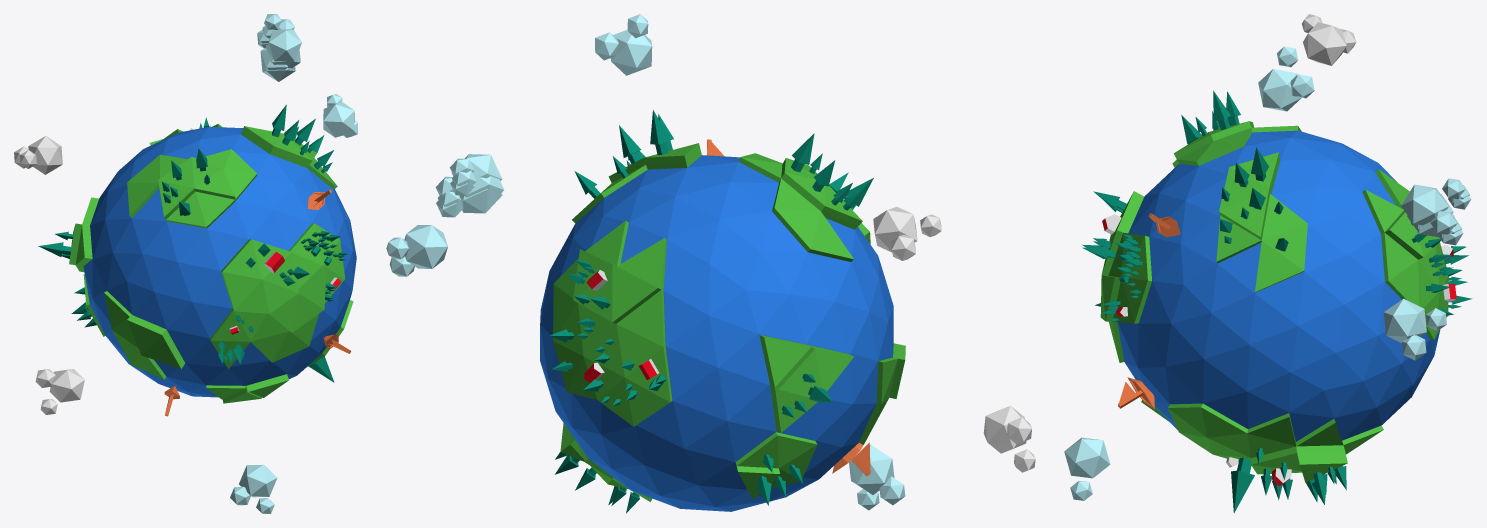
Rendered from globetest2.glb.
3 renders of one model, left to right at view 1: azimuth 30°, elevation 25°; view 2: azimuth 150°, elevation 25°; view 3: azimuth 270°, elevation 25°, orthographic. The views are drawn at different scales.
Visible parts, largest first — view 1: Icosphere.001, Icosphere, Plane.079, Icosphere.008, Icosphere.007, Icosphere.003, Icosphere.020, Icosphere.014, Icosphere.011, Plane.002, Plane; view 2: Icosphere.001, Icosphere, Plane.079, Icosphere.020, Icosphere.003, Icosphere.007, Icosphere.008, Icosphere.011, Icosphere.014, Plane.002, Plane; view 3: Icosphere.001, Icosphere, Plane.079, Icosphere.020, Icosphere.003, Icosphere.007, Icosphere.008, Icosphere.011, Plane.002, Plane.
Part boxes in pixels (box(x1,y1,x2,y2)): Icosphere.001: box(83, 126, 356, 397); Icosphere: box(69, 124, 353, 403); Plane.079: box(38, 104, 347, 382); Icosphere.008: box(230, 464, 277, 513); Icosphere.007: box(264, 14, 301, 61); Icosphere.003: box(323, 94, 357, 137); Icosphere.020: box(257, 25, 300, 81); Icosphere.014: box(49, 369, 84, 402); Icosphere.011: box(28, 136, 62, 174); Plane.002: box(164, 189, 350, 416); Plane: box(189, 128, 341, 370); Icosphere.001: box(540, 155, 893, 511); Icosphere: box(553, 143, 905, 501); Plane.079: box(549, 110, 873, 513); Icosphere.020: box(435, 154, 504, 217); Icosphere.003: box(386, 225, 447, 276); Icosphere.007: box(595, 14, 652, 75); Icosphere.008: box(849, 444, 905, 510); Icosphere.011: box(873, 207, 917, 252); Icosphere.014: box(983, 405, 1026, 453); Plane.002: box(707, 139, 870, 476); Plane: box(584, 270, 659, 382); Icosphere.001: box(1117, 130, 1440, 441); Icosphere: box(1100, 121, 1448, 482); Plane.079: box(1082, 90, 1472, 513); Icosphere.020: box(1401, 178, 1471, 245); Icosphere.003: box(1383, 298, 1446, 360); Icosphere.007: box(1258, 46, 1314, 111); Icosphere.008: box(1064, 437, 1110, 500); Icosphere.011: box(1303, 22, 1346, 65); Plane.002: box(1118, 213, 1180, 409); Plane: box(1102, 214, 1456, 486).
Bounding box in the file's own units: 3.49 × 3.42 × 2.49.
